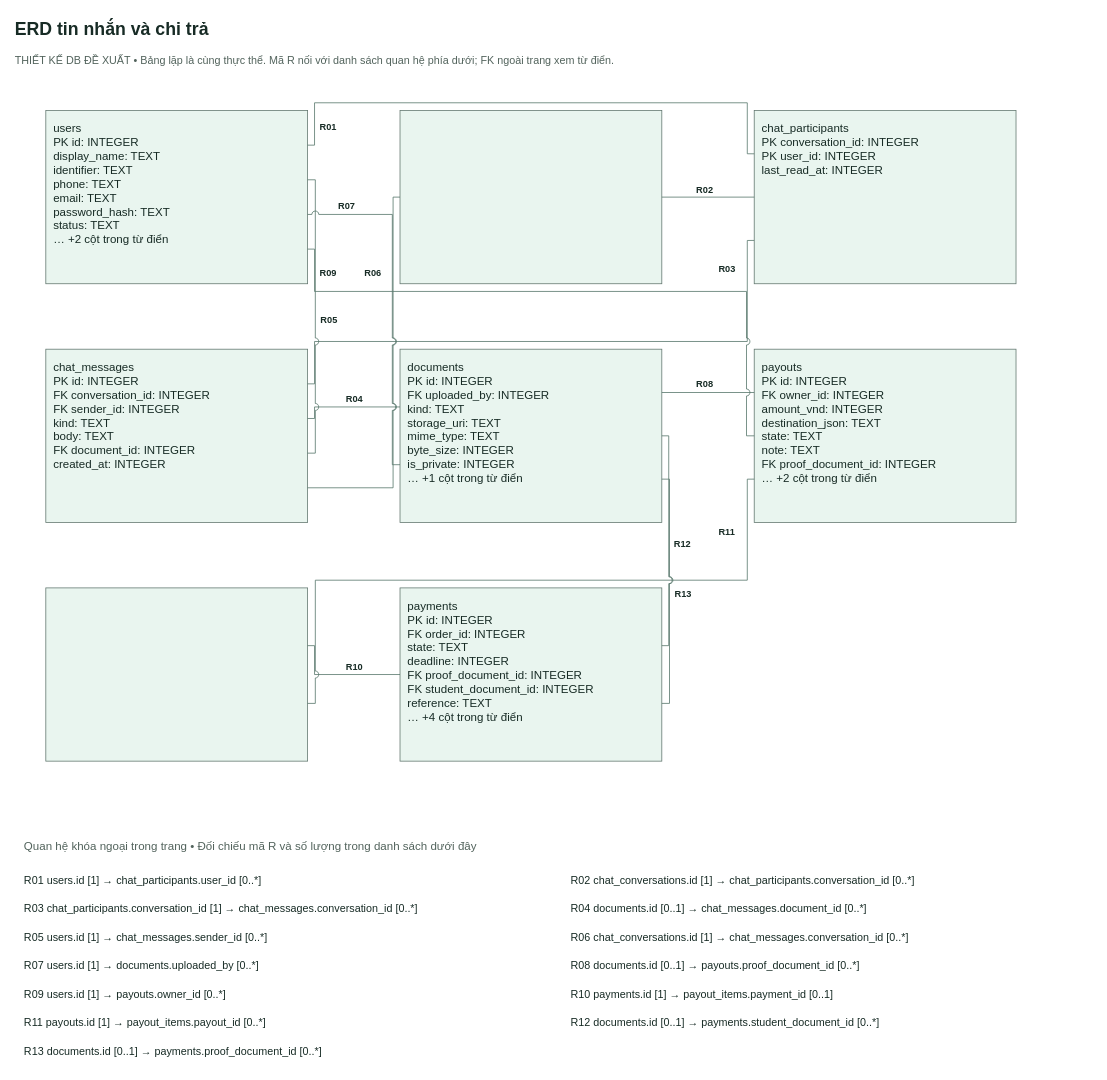
Some shapes in this 1107 by 1080 pixel diagram are drawn without their labels. Here are the shapes that lost their labels. From the top down, the centre of each, then its label:
point 530,197: chat_conversations PK id: INTEGER created_at: INTEGER
point 176,674: payout_items PK payout_id: INTEGER PK payment_id: INTEGER allocated_vnd: INTEGER
